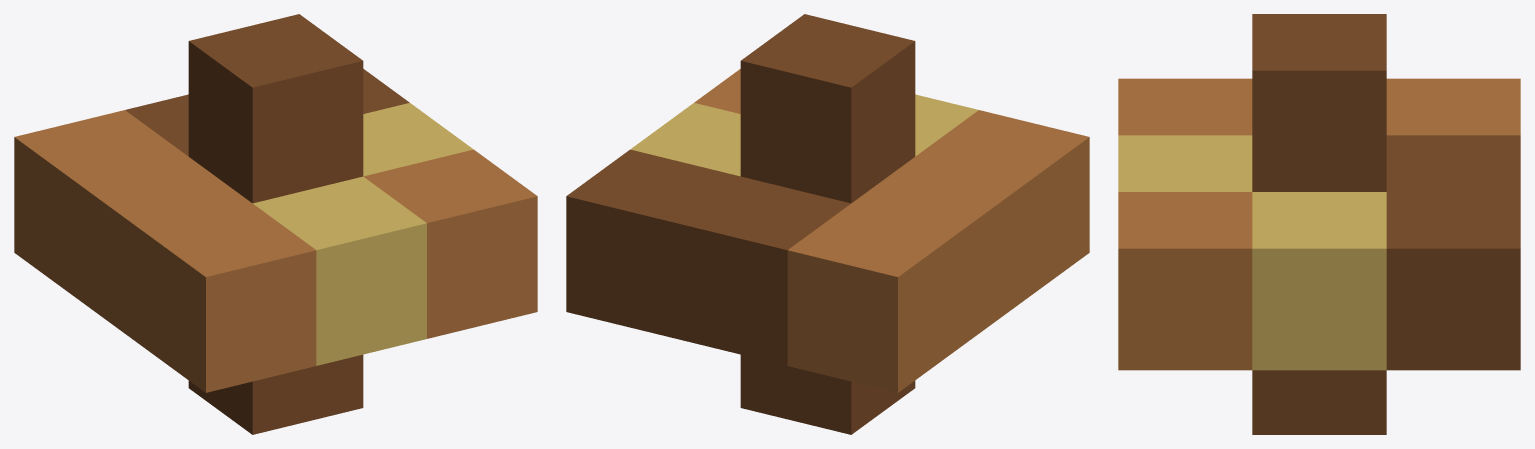
The model's file is CMU3DWornAU14IDCardColonyCMBMarshalId.glb.
The picture shows the model from 3 angles, left to right: view 1: azimuth 30°, elevation 25°; view 2: azimuth 150°, elevation 25°; view 3: azimuth 270°, elevation 25°; orthographic projection. The views are drawn at different scales.
Visible parts, largest first — view 1: source volume 1, source volume 4, source volume 6, source volume 2, source volume 3, source volume 7, source volume 5; view 2: source volume 1, source volume 5, source volume 4, source volume 3, source volume 7, source volume 2, source volume 6; view 3: source volume 5, source volume 7, source volume 6, source volume 4, source volume 1, source volume 3, source volume 2.
Part boxes in pixels (left/top/right/bottom): source volume 1: left=14, top=110, right=316, bottom=392; source volume 4: left=188, top=14, right=363, bottom=203; source volume 6: left=363, top=149, right=537, bottom=338; source volume 2: left=253, top=176, right=426, bottom=365; source volume 3: left=188, top=354, right=363, bottom=434; source volume 7: left=363, top=103, right=473, bottom=176; source volume 5: left=125, top=69, right=409, bottom=156; source volume 1: left=787, top=110, right=1089, bottom=392; source volume 5: left=566, top=149, right=850, bottom=365; source volume 4: left=740, top=14, right=915, bottom=203; source volume 3: left=740, top=354, right=915, bottom=434; source volume 7: left=630, top=103, right=740, bottom=176; source volume 2: left=915, top=94, right=978, bottom=156; source volume 6: left=694, top=69, right=740, bottom=113; source volume 5: left=1386, top=135, right=1520, bottom=370; source volume 7: left=1252, top=192, right=1386, bottom=370; source volume 6: left=1118, top=192, right=1252, bottom=370; source volume 4: left=1252, top=14, right=1386, bottom=191; source volume 1: left=1118, top=78, right=1520, bottom=135; source volume 3: left=1252, top=370, right=1386, bottom=434; source volume 2: left=1118, top=135, right=1252, bottom=191.
Size of the model in its own units: 0.15 by 0.15 by 0.15.
